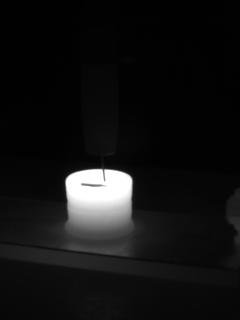tip_wire_left: (85, 150, 106, 182)
tip_wire_right: (103, 149, 117, 183)
